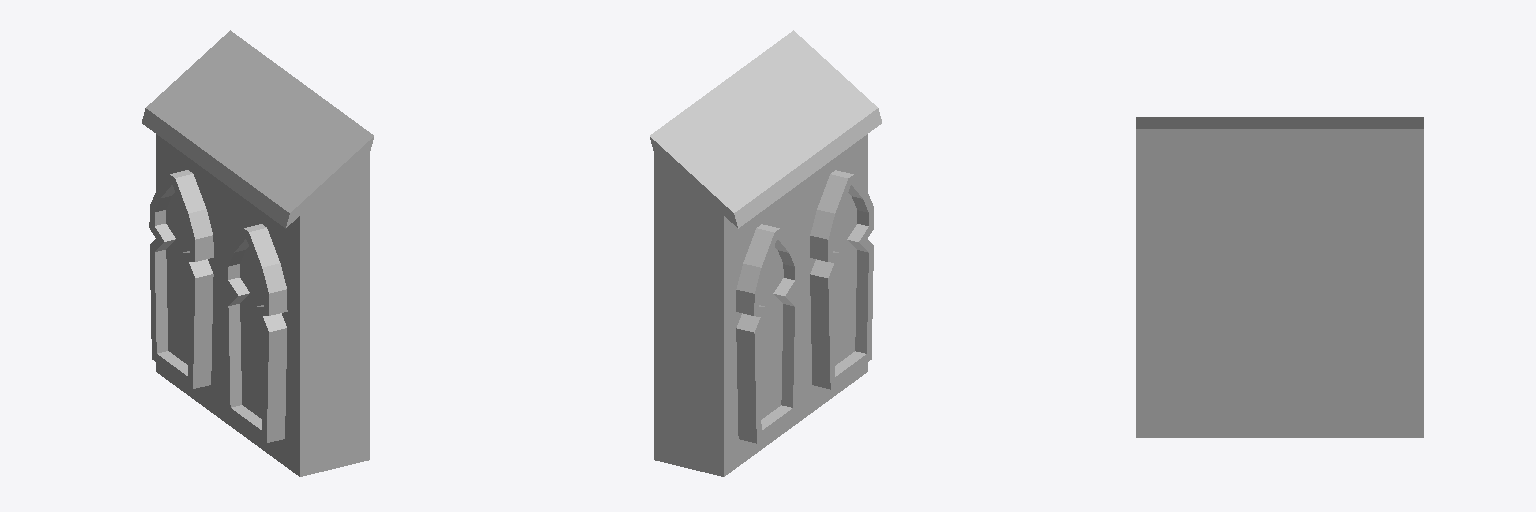
Rendered from BG_FENETRE2.obj.
3 views of the same model, side by side, from view 1: azimuth 30°, elevation 25°; view 2: azimuth 150°, elevation 25°; view 3: azimuth 270°, elevation 25° (orthographic).
Visible parts, largest first — view 1: polySurface44; view 2: polySurface44; view 3: polySurface44.
Part boxes in pixels (left/top/right/bottom): polySurface44: left=142, top=30, right=373, bottom=476; polySurface44: left=650, top=30, right=881, bottom=476; polySurface44: left=1136, top=117, right=1423, bottom=437.
Size of the model in its own units: 80.22 by 267 by 216.